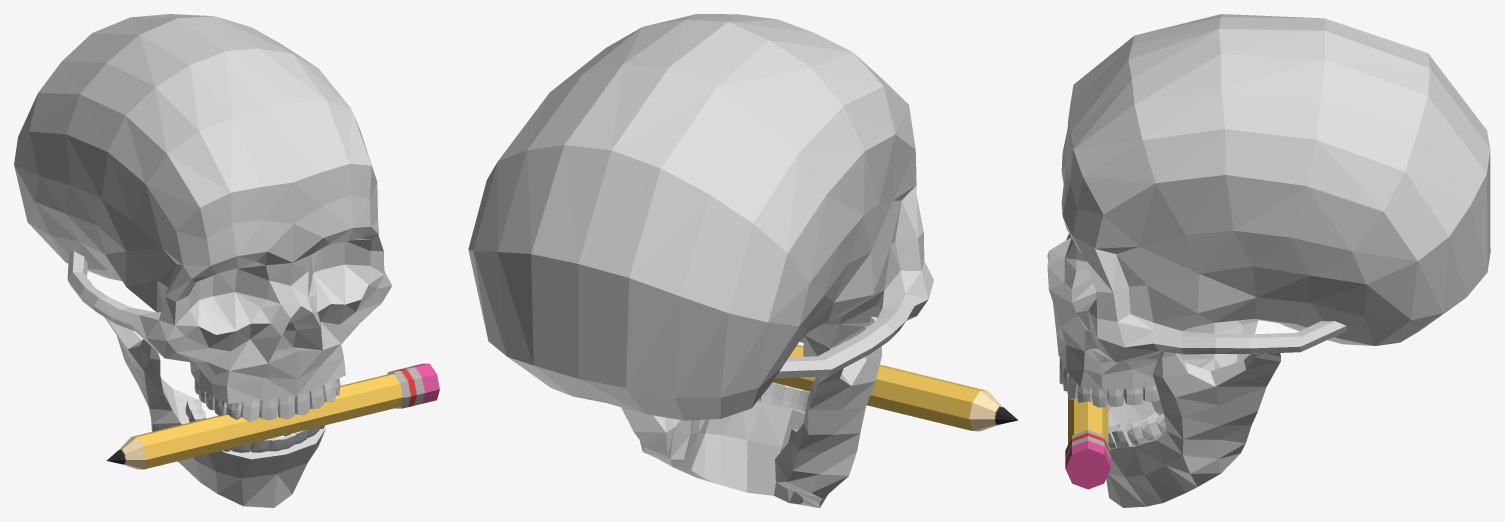
File: skull.glb
3 renders of one model, left to right at view 1: azimuth 30°, elevation 25°; view 2: azimuth 150°, elevation 25°; view 3: azimuth 270°, elevation 25°, orthographic. The views are drawn at different scales.
Parts seen in each view (by area): view 1: Skull3rdEd:skull_upper_uvskull2, Skull3rdEd:pencil1, Skull3rdEd:skull_lower_uvmandible2; view 2: Skull3rdEd:skull_upper_uvskull2, Skull3rdEd:skull_lower_uvmandible2, Skull3rdEd:pencil1; view 3: Skull3rdEd:skull_upper_uvskull2, Skull3rdEd:skull_lower_uvmandible2, Skull3rdEd:pencil1.
Part boxes in pixels (x1,y1,x2,y2): Skull3rdEd:skull_upper_uvskull2: [14, 14, 391, 403]; Skull3rdEd:pencil1: [106, 363, 439, 469]; Skull3rdEd:skull_lower_uvmandible2: [104, 317, 325, 507]; Skull3rdEd:skull_upper_uvskull2: [468, 14, 933, 420]; Skull3rdEd:skull_lower_uvmandible2: [621, 316, 881, 507]; Skull3rdEd:pencil1: [772, 344, 1017, 431]; Skull3rdEd:skull_upper_uvskull2: [1047, 14, 1490, 389]; Skull3rdEd:skull_lower_uvmandible2: [1106, 319, 1280, 507]; Skull3rdEd:pencil1: [1065, 395, 1110, 489].
Bounding box in the file's own units: 4.49 × 5.58 × 4.78.
Materials: 2 (1 with a texture image).
